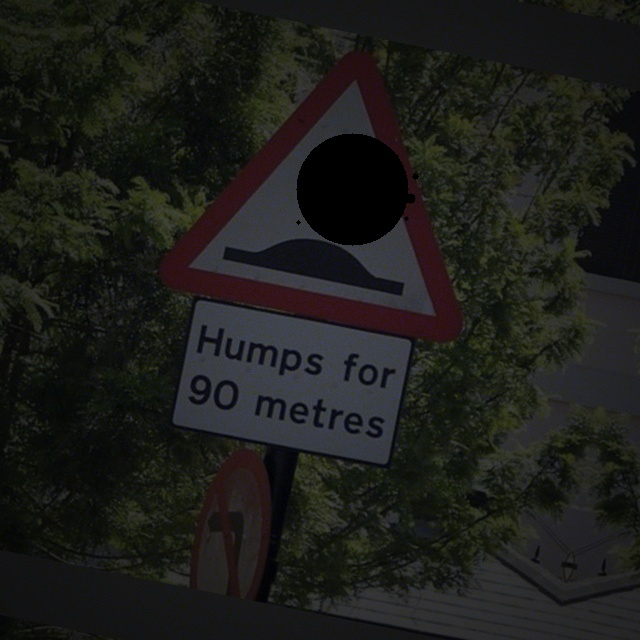Hump_or_Rough_Road: (168, 27, 493, 339)
